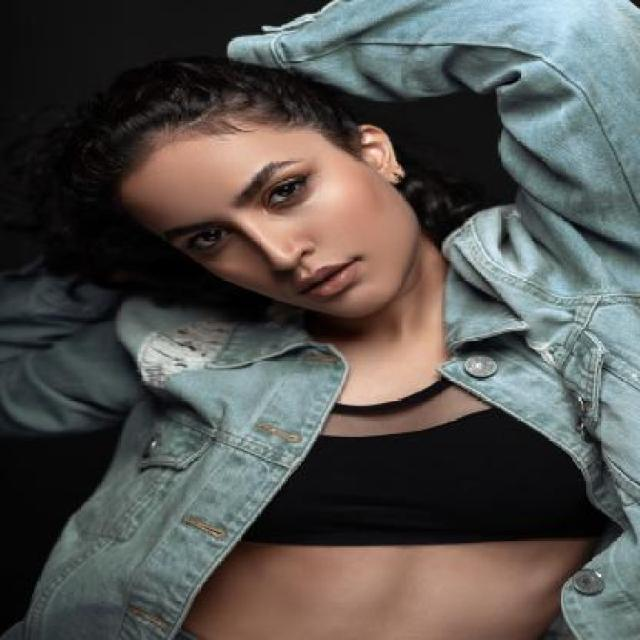closed-mouth: (288, 247, 378, 301)
